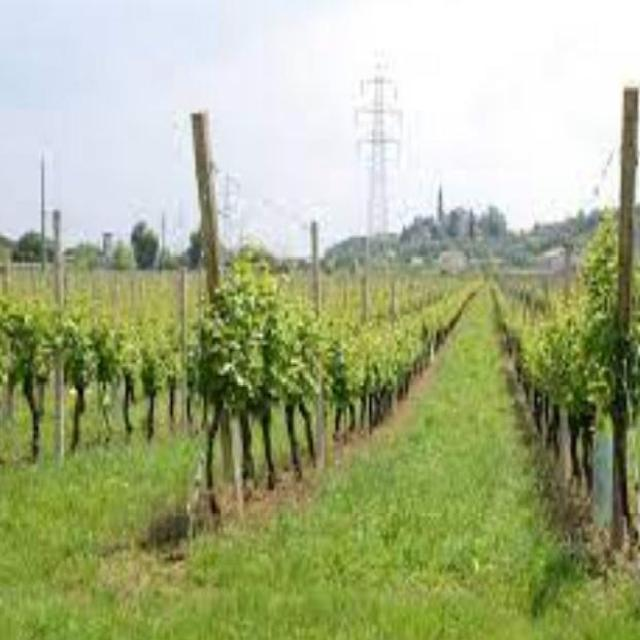row: (196, 285, 611, 575), (9, 417, 233, 548)
